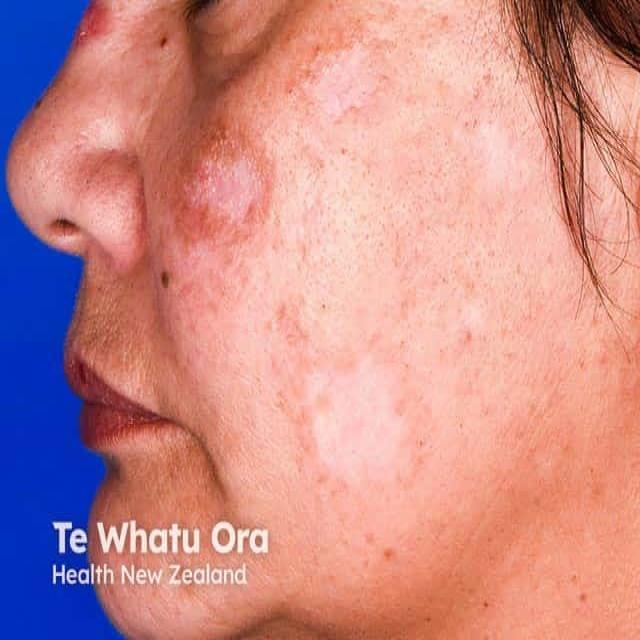lupus-detected: (176, 138, 334, 272), (56, 8, 148, 92)
